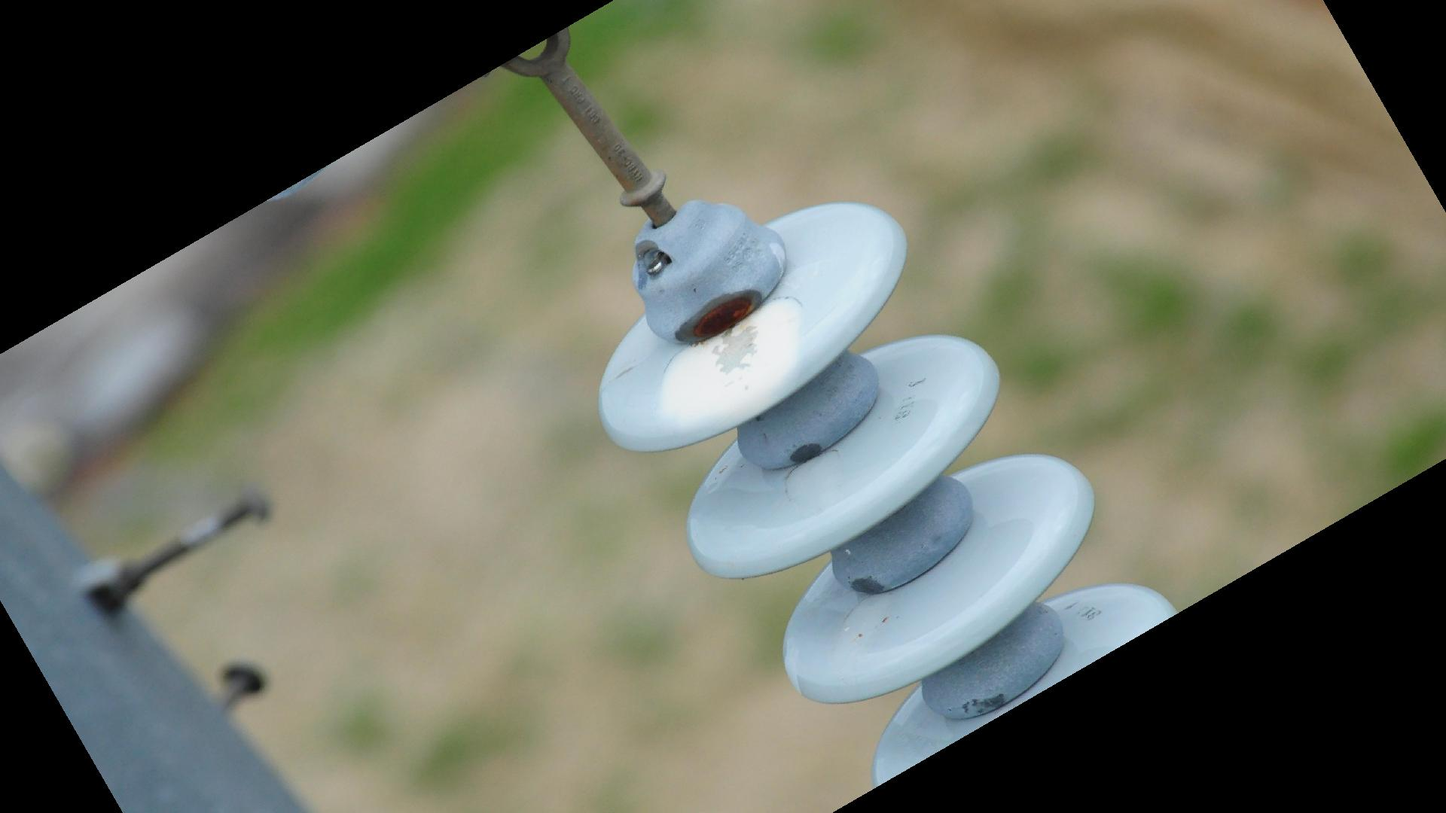insulator: (591, 193, 1184, 798)
insulator_flashover: (651, 289, 809, 438)
